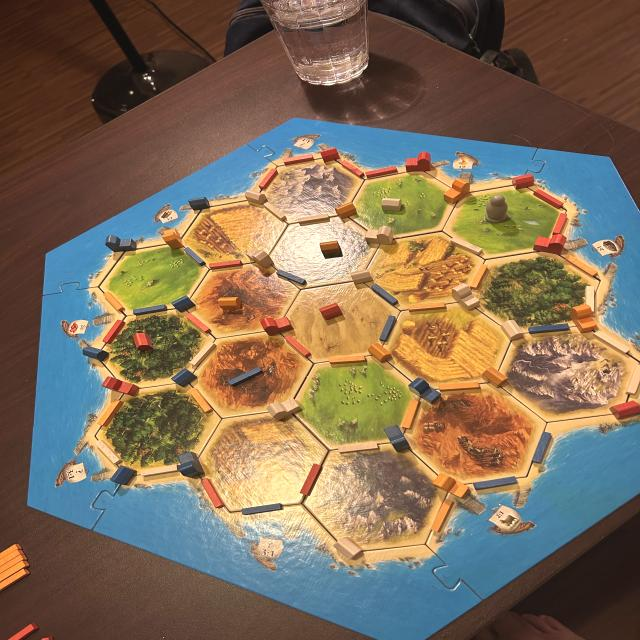tile: (302, 441, 451, 553), (399, 382, 547, 486), (192, 410, 329, 513), (495, 325, 639, 422), (289, 355, 422, 450), (95, 381, 222, 475), (378, 301, 513, 389), (467, 249, 600, 334), (188, 330, 313, 419), (276, 280, 401, 363), (97, 308, 216, 389), (362, 232, 485, 310), (441, 184, 567, 259), (184, 261, 301, 338), (266, 214, 380, 290), (344, 168, 461, 240), (98, 243, 209, 316), (178, 199, 288, 268), (257, 157, 365, 224)
